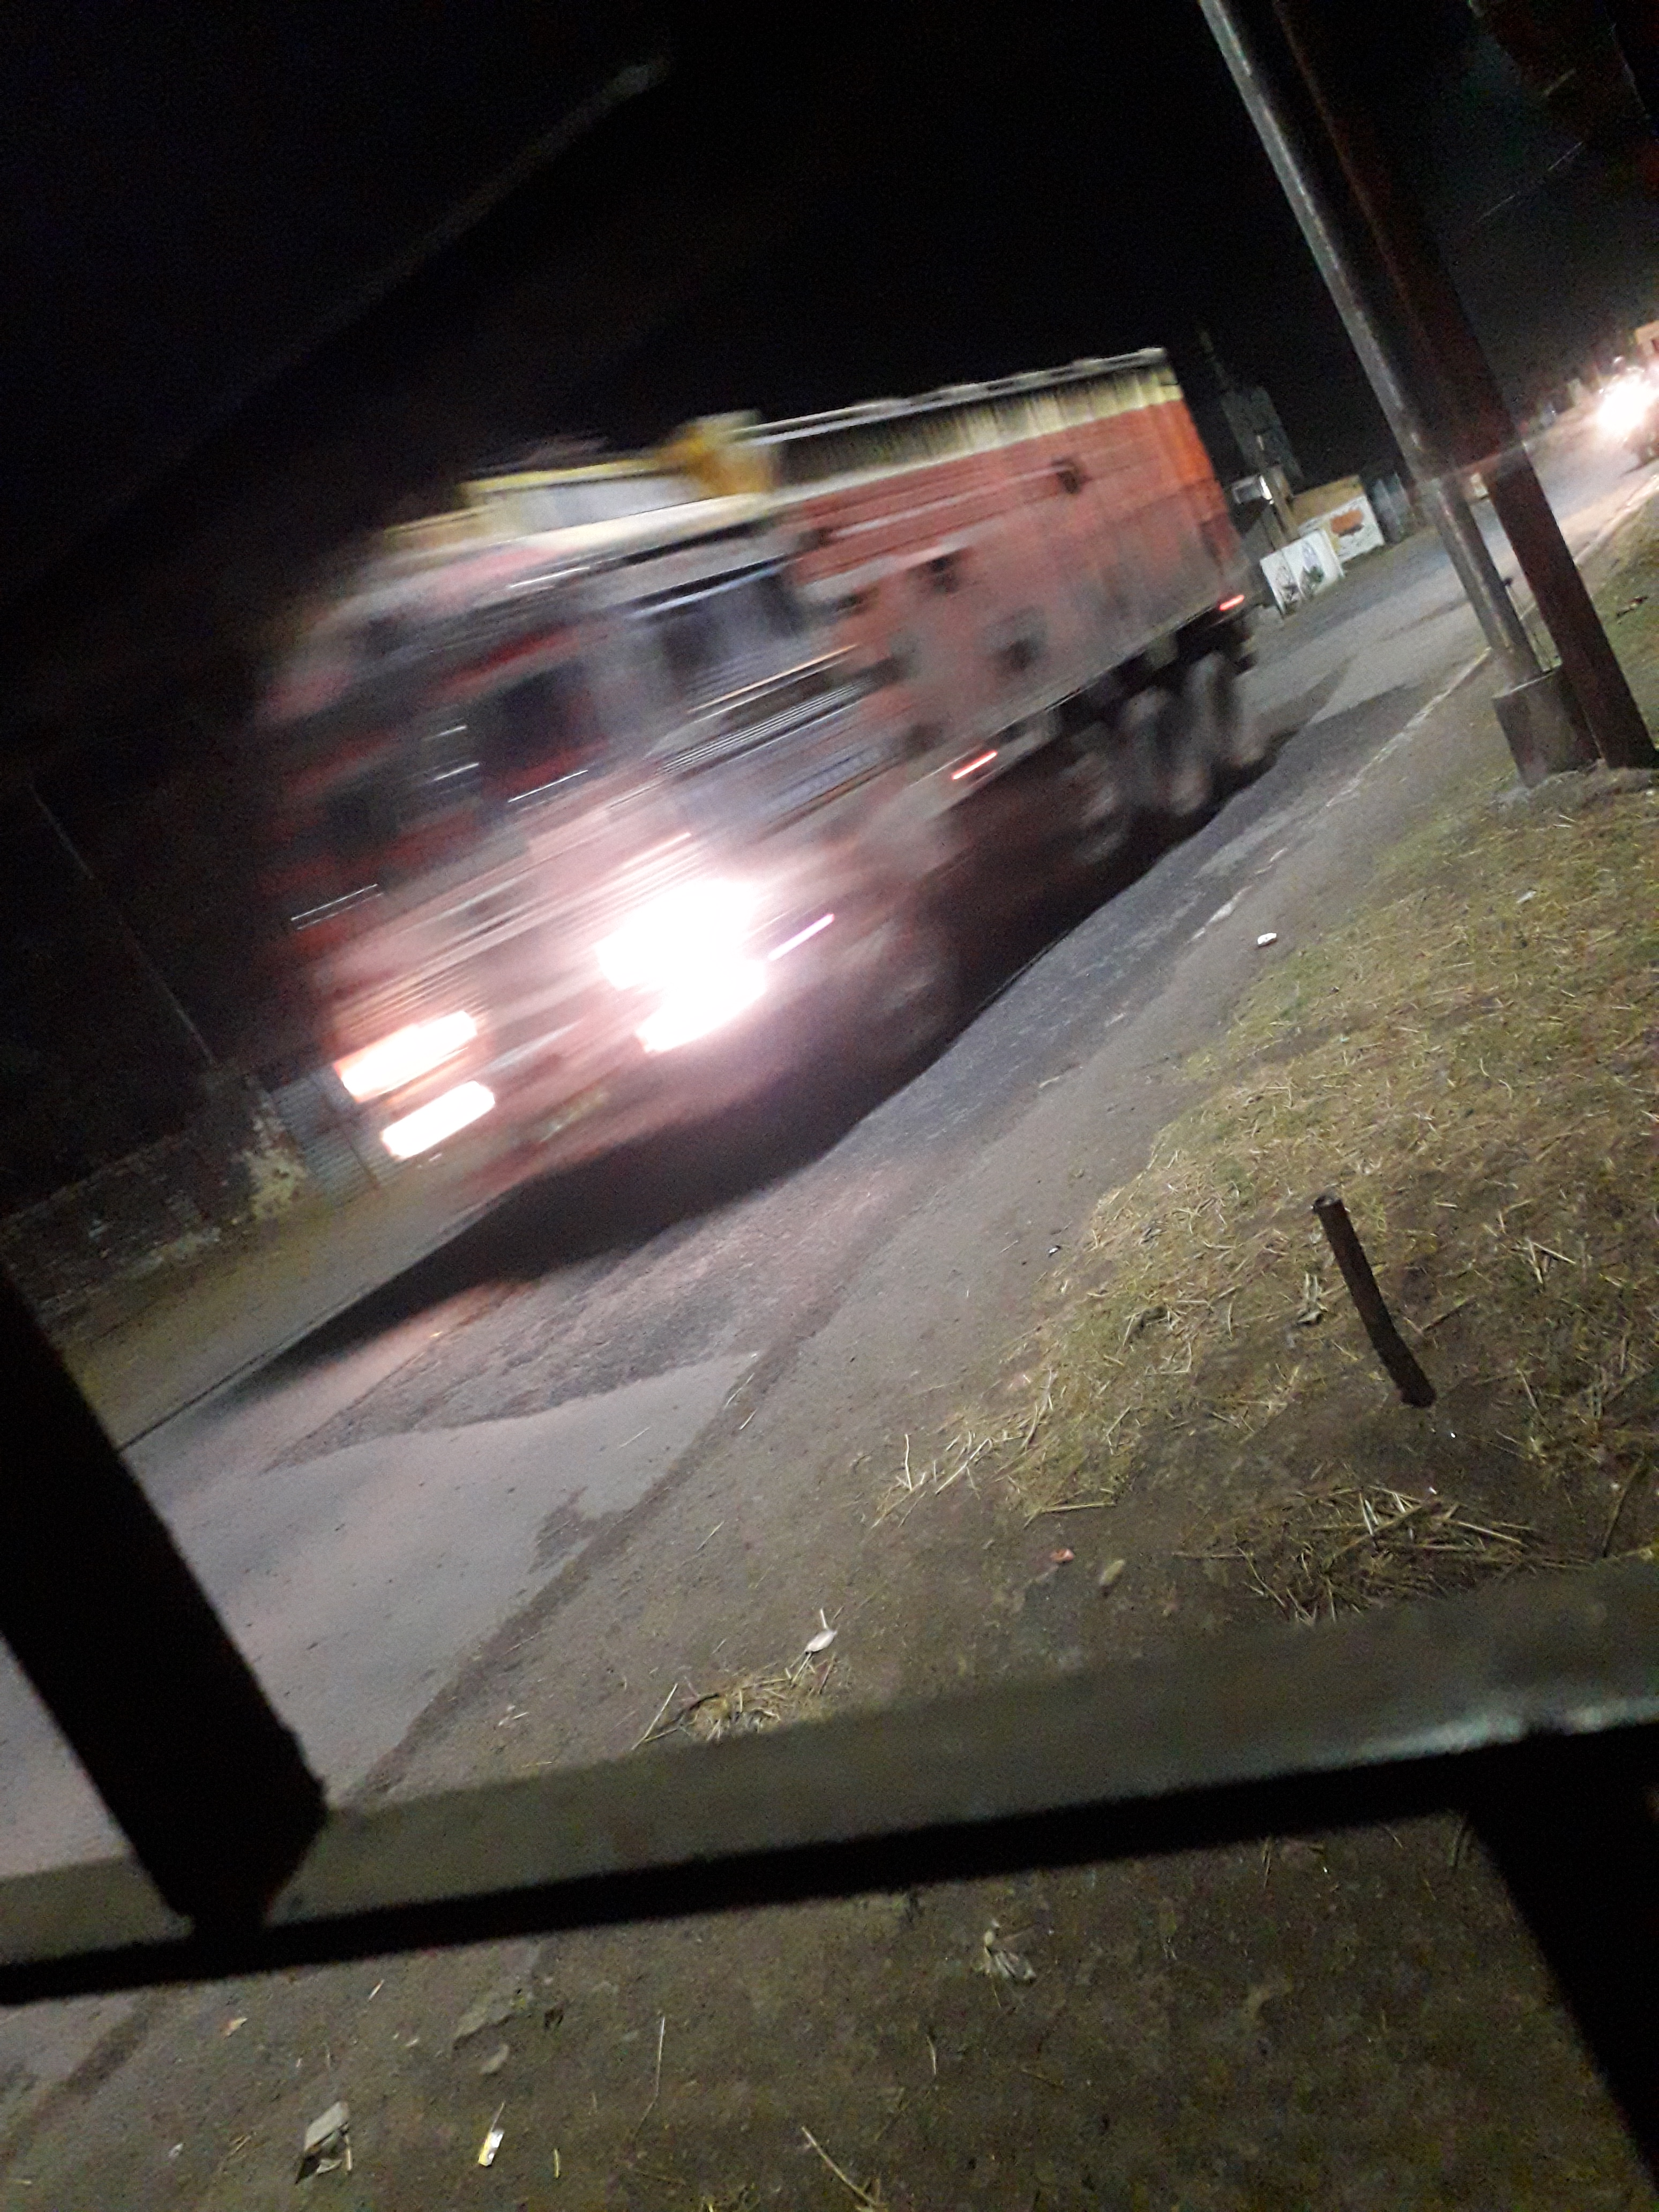truck: (240, 341, 1270, 1226)
